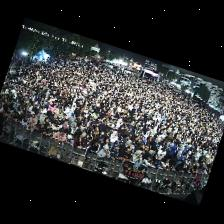person: (83, 140, 100, 163), (153, 147, 166, 167), (118, 141, 132, 156), (149, 138, 160, 156), (74, 133, 86, 149), (53, 128, 66, 142), (118, 147, 131, 161), (175, 152, 187, 167), (43, 123, 56, 136), (143, 136, 152, 153), (182, 164, 194, 176), (98, 146, 110, 158), (15, 104, 26, 116), (134, 142, 145, 154), (132, 150, 142, 163), (142, 153, 152, 166), (85, 129, 94, 143), (160, 158, 169, 172), (166, 139, 174, 154), (95, 130, 104, 143), (65, 103, 72, 119), (110, 131, 118, 145), (69, 122, 77, 136), (50, 113, 60, 124), (124, 126, 133, 138), (110, 145, 117, 160), (117, 125, 124, 140), (68, 113, 76, 126), (121, 135, 130, 146), (175, 161, 184, 172), (48, 101, 56, 113), (177, 147, 184, 160), (30, 112, 37, 125), (22, 115, 29, 128), (101, 139, 110, 149), (98, 120, 107, 130), (13, 111, 21, 122), (39, 112, 46, 124), (191, 164, 200, 173), (65, 135, 74, 144), (51, 121, 60, 130), (80, 127, 88, 137), (93, 125, 99, 138), (7, 110, 14, 121), (195, 149, 201, 161), (114, 141, 121, 151), (57, 109, 63, 119), (116, 119, 122, 129), (24, 108, 31, 116), (198, 165, 204, 174), (44, 118, 50, 124), (203, 166, 207, 174), (0, 103, 3, 113)
